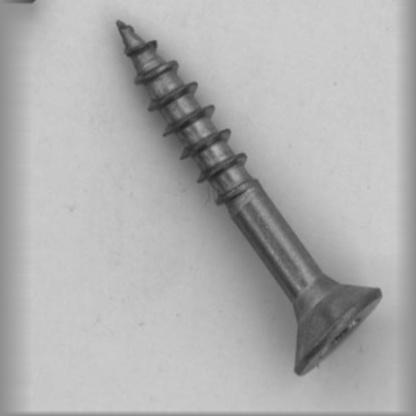metal: (114, 19, 385, 378)
